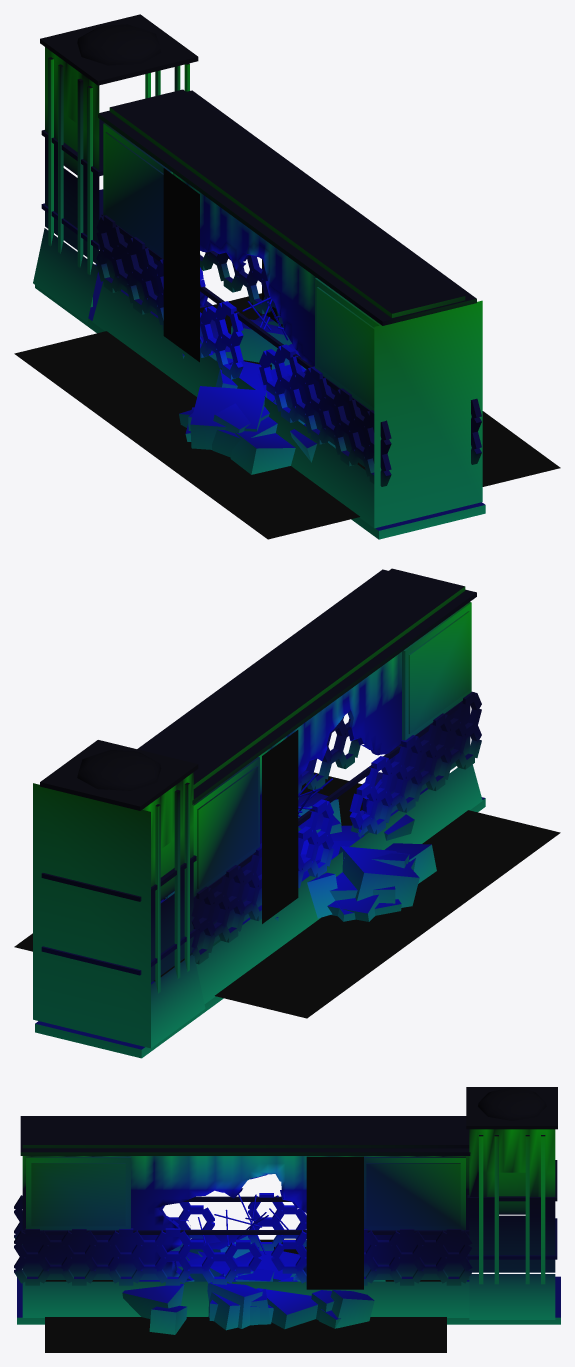
File: d_mediumwall_damaged.glb
3 views of the same model, one above another, from view 1: azimuth 30°, elevation 25°; view 2: azimuth 150°, elevation 25°; view 3: azimuth 270°, elevation 25° (orthographic). The views are drawn at different scales.
Visible parts, largest first — view 1: lod0; view 2: lod0; view 3: lod0.
Part boxes in pixels (x1,y1,x2,y2): lod0: [14, 14, 560, 539]; lod0: [14, 568, 560, 1058]; lod0: [14, 1087, 560, 1352].
Size of what is drawn, in the model's own units: 14 by 12.19 by 28.6.
